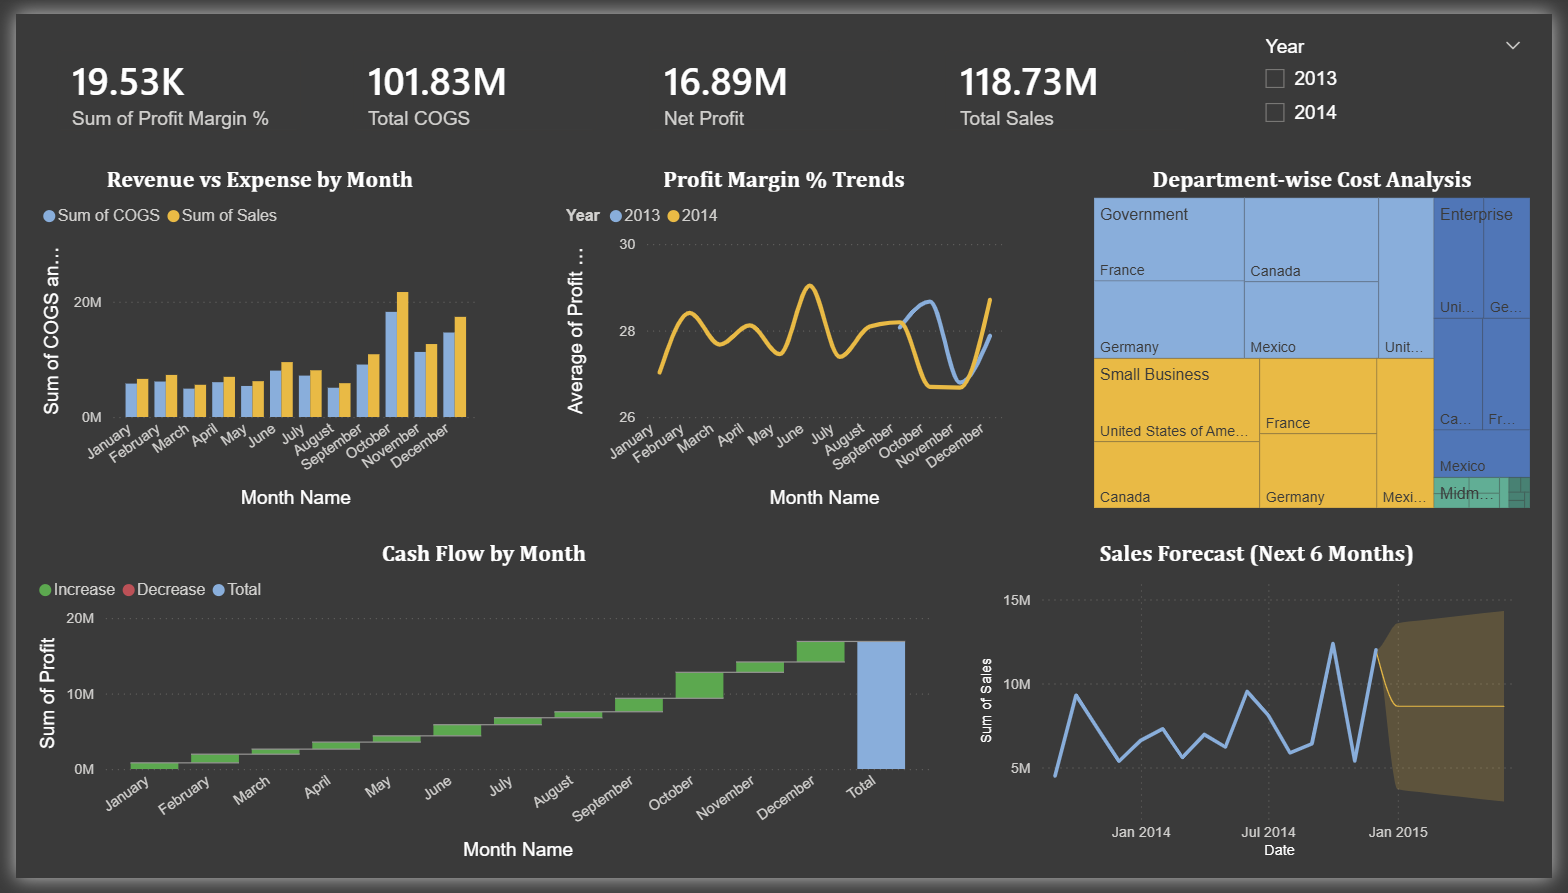

This screenshot's page, from the dashboard's own definition file:
{"tool":"powerbi","page":{"name":"Page 1","canvas":[1280,720],"ordinal":0},"visuals":[{"type":"clusteredColumnChart","title":"Revenue vs Expense by Month","fields":{"Y":["Sum(finance_clean.COGS)","Sum(finance_clean.Sales)"],"Category":["finance_clean.Month Name"]},"box":[16.7,126.7,373.3,290],"z":0},{"type":"lineChart","title":"Profit Margin % Trends","fields":{"Category":["finance_clean.Month Name"],"Y":["Avg(finance_clean.Profit Margin %)"],"Series":["finance_clean.Year"]},"box":[453.3,126.7,373.3,290],"z":1000},{"type":"waterfallChart","title":"Cash Flow by Month","fields":{"Category":["finance_clean.Month Name"],"Y":["Sum(finance_clean.Profit)"]},"box":[13.3,438.3,753.3,271.7],"z":2000},{"type":"treemap","title":"Department-wise Cost Analysis","fields":{"Group":["finance_clean.Segment"],"Details":["finance_clean.Country"],"Values":["Sum(finance_clean.COGS)"]},"box":[893.3,126.7,373.3,290],"z":3000},{"type":"lineChart","title":"Sales Forecast (Next 6 Months)","fields":{"Y":["Sum(finance_clean.Sales)"],"Category":["finance_clean.Date"]},"box":[798.3,438.3,471.7,270],"z":4000},{"type":"cardVisual","fields":{"Data":["Sum(finance_clean.Profit Margin %)"]},"box":[16.7,13.3,238.3,101.7],"z":5000},{"type":"cardVisual","fields":{"Data":["finance_clean.Total Sales"]},"box":[756.7,13.3,238.3,101.7],"z":6000},{"type":"cardVisual","fields":{"Data":["finance_clean.Net Profit"]},"box":[510,13.3,238.3,101.7],"z":7000},{"type":"cardVisual","fields":{"Data":["finance_clean.Total COGS"]},"box":[263.3,13.3,238.3,101.7],"z":8000},{"type":"slicer","fields":{"Values":["finance_clean.Year"]},"box":[1028.3,13.3,238.3,101.7],"z":9000}]}

Visuals, with their boxes in screenshot pixels (x1, y1, x2, y2), scaled from the page's 1280x720 canvas onto the 1568x893 screenshot:
"Revenue vs Expense by Month" clusteredColumnChart: x1=20 y1=157 x2=478 y2=517
"Profit Margin % Trends" lineChart: x1=555 y1=157 x2=1013 y2=517
"Cash Flow by Month" waterfallChart: x1=16 y1=544 x2=939 y2=881
"Department-wise Cost Analysis" treemap: x1=1094 y1=157 x2=1552 y2=517
"Sales Forecast (Next 6 Months)" lineChart: x1=978 y1=544 x2=1556 y2=878
cardVisual - Sum(finance_clean.Profit Margin %): x1=20 y1=16 x2=312 y2=143
cardVisual - finance_clean.Total Sales: x1=927 y1=16 x2=1219 y2=143
cardVisual - finance_clean.Net Profit: x1=625 y1=16 x2=917 y2=143
cardVisual - finance_clean.Total COGS: x1=323 y1=16 x2=614 y2=143
slicer - finance_clean.Year: x1=1260 y1=16 x2=1552 y2=143
